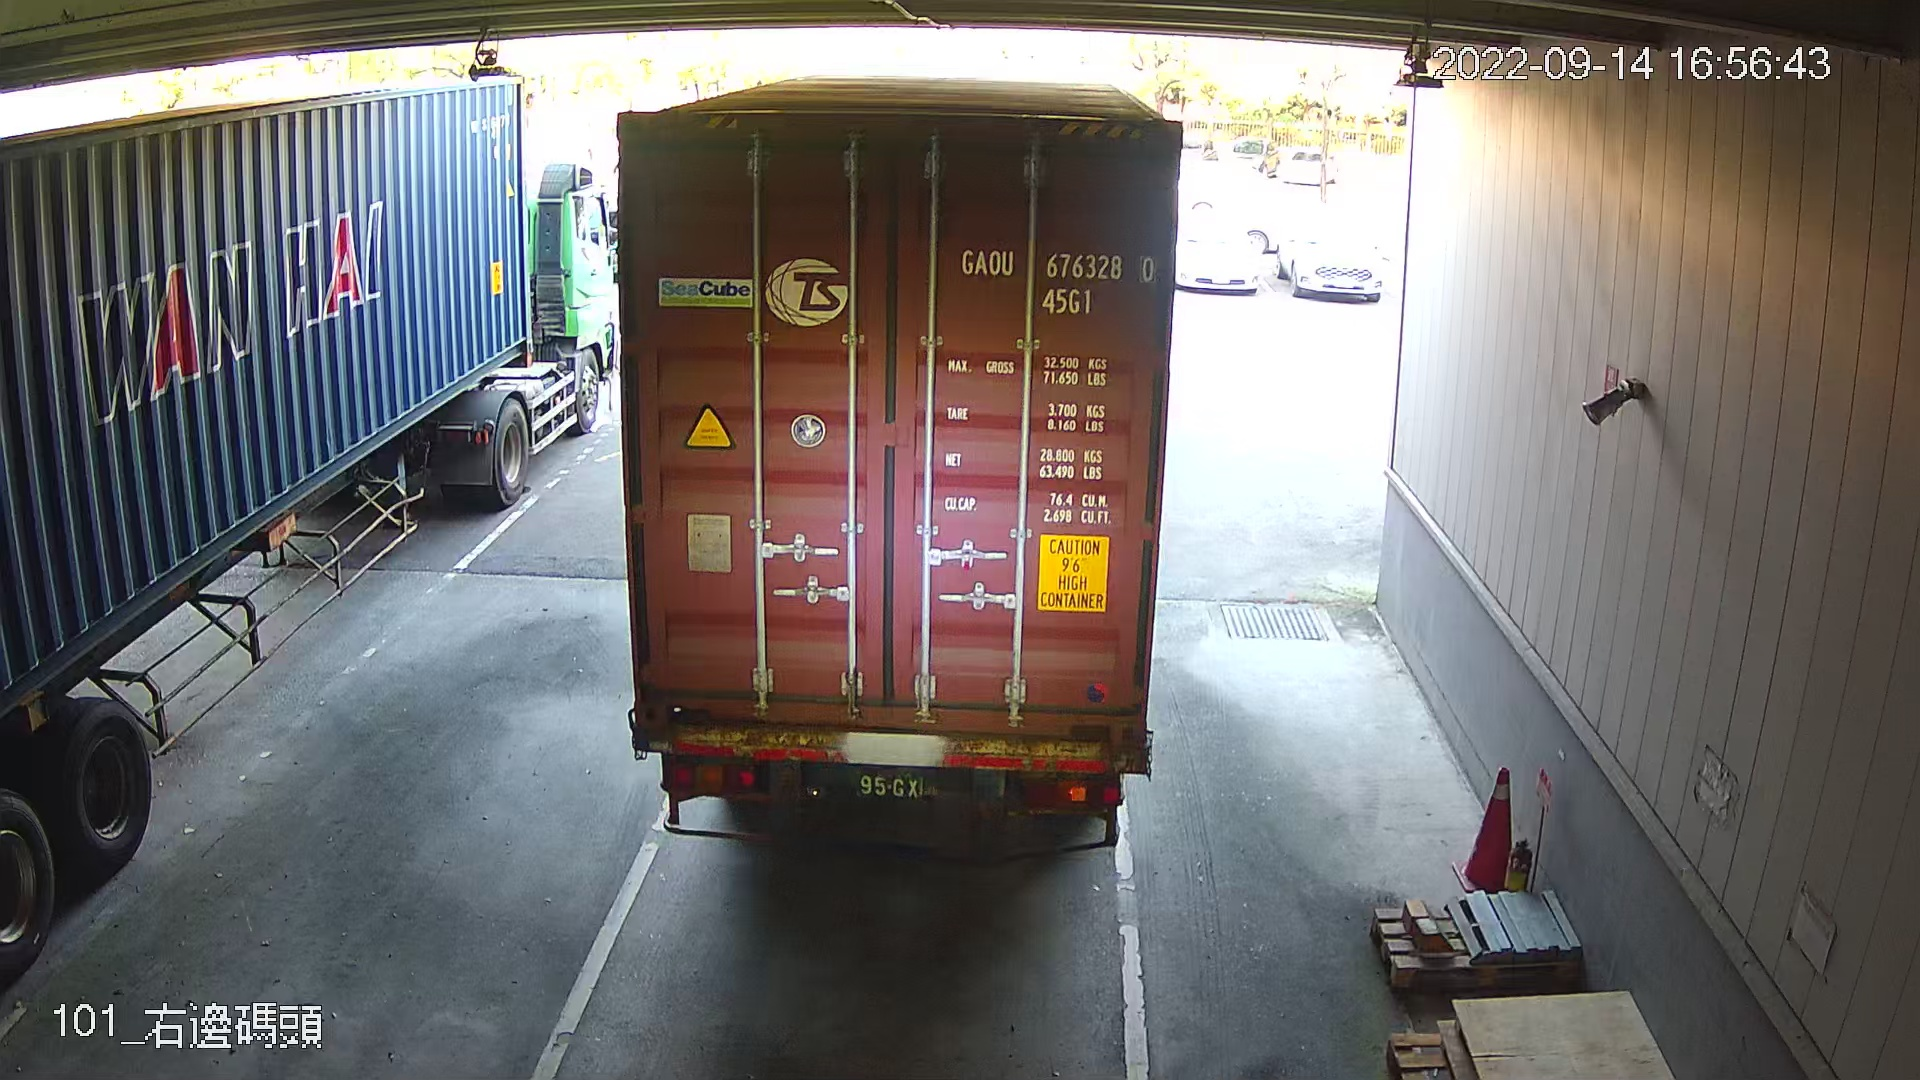container: (953, 236, 1162, 320)
